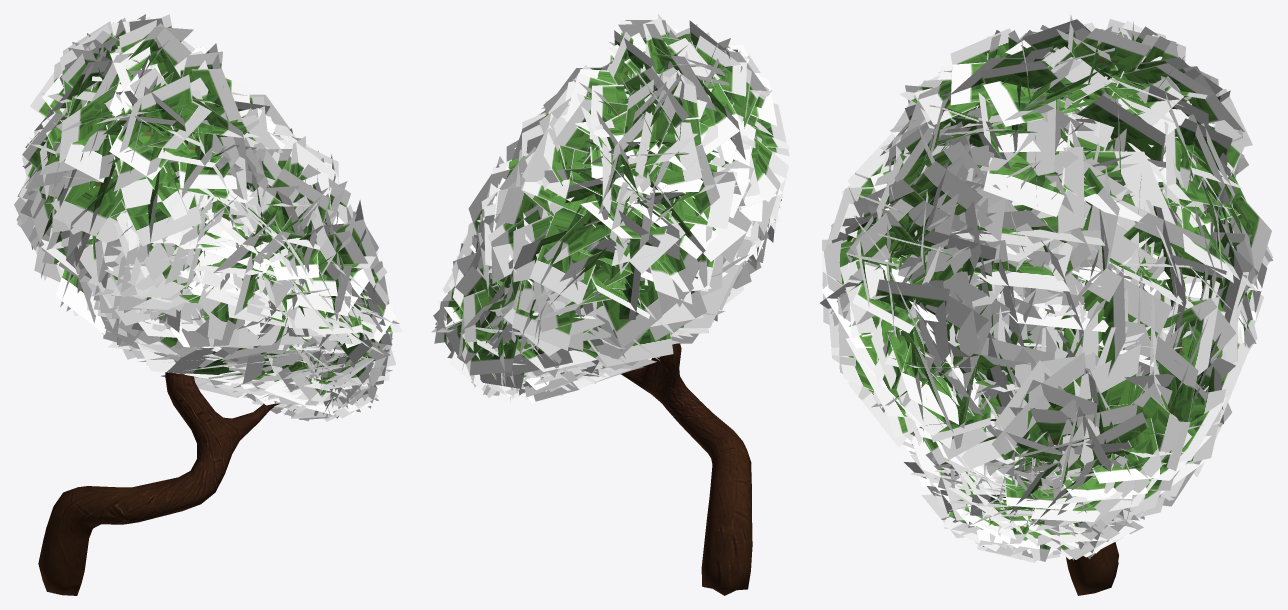
Rendered from green_foliage_polish.FBX.
3 renders of one model, left to right at view 1: azimuth 30°, elevation 25°; view 2: azimuth 150°, elevation 25°; view 3: azimuth 270°, elevation 25°, orthographic. The views are drawn at different scales.
Visible parts, largest first — view 1: Object005; view 2: Object005; view 3: Object005.
Part boxes in pixels (<box>): Object005: <box>14,14,402,595</box>; Object005: <box>431,14,790,595</box>; Object005: <box>820,14,1272,595</box>.
Bounding box in the file's own units: 1885 × 3097 × 2046.
2 materials, 2 textured.
